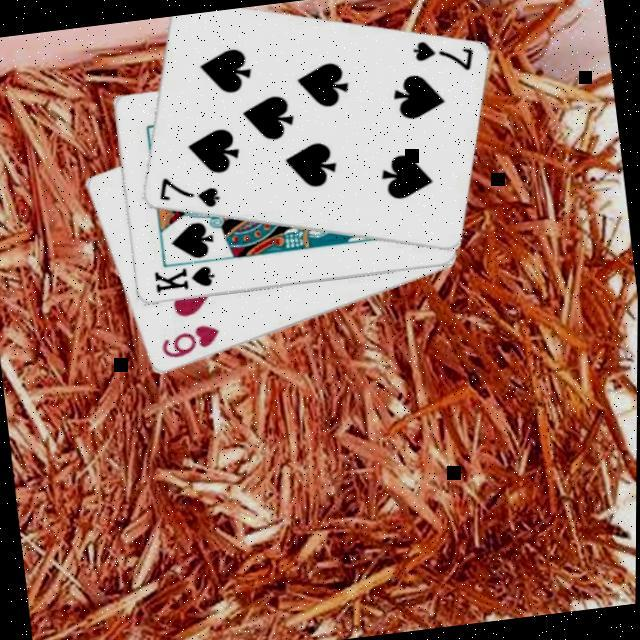6H: (158, 322, 226, 364)
7S: (410, 32, 480, 82), (154, 170, 226, 218)
KS: (152, 264, 220, 298)
